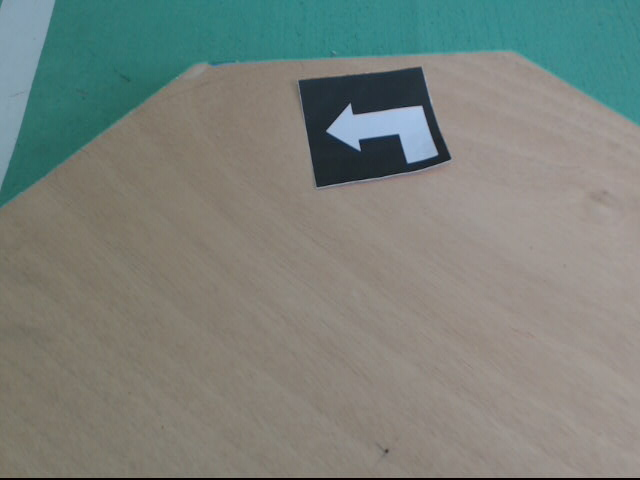left: (296, 66, 455, 191)
